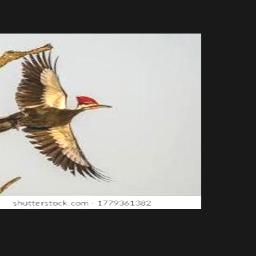Woodpecker: (0, 49, 115, 184)
